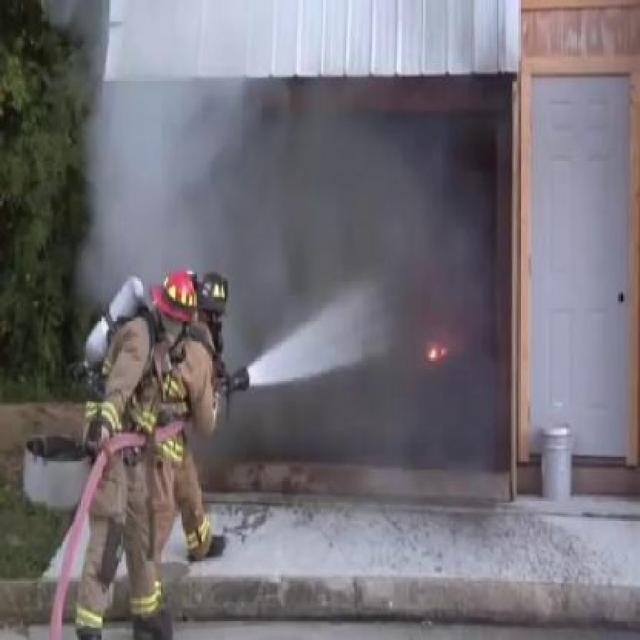fire: (424, 330, 453, 364)
smoke: (246, 112, 508, 478), (46, 12, 242, 290)
